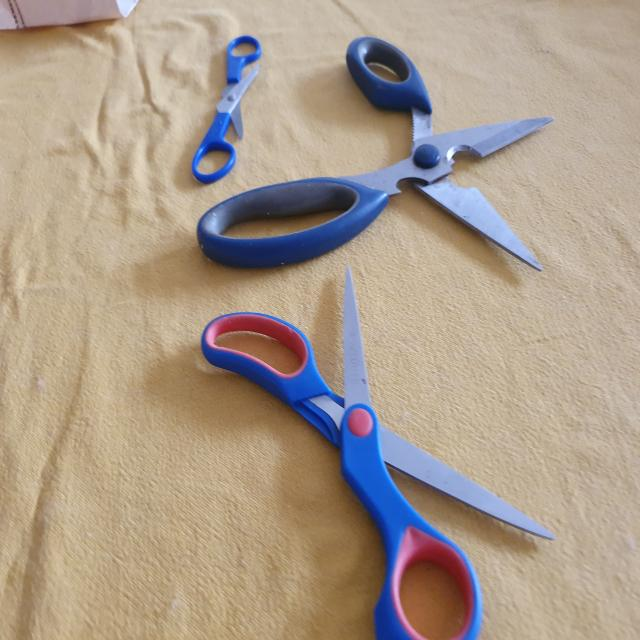scissors: (202, 263, 552, 640), (197, 32, 559, 272), (188, 33, 266, 178)
